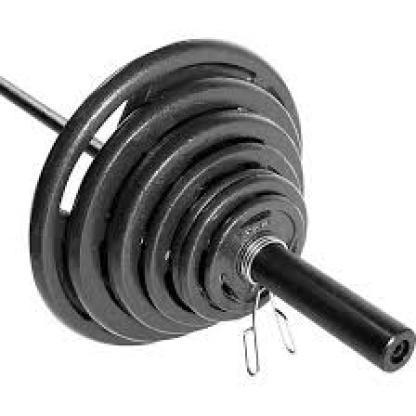Barbell: (363, 309, 415, 382)
